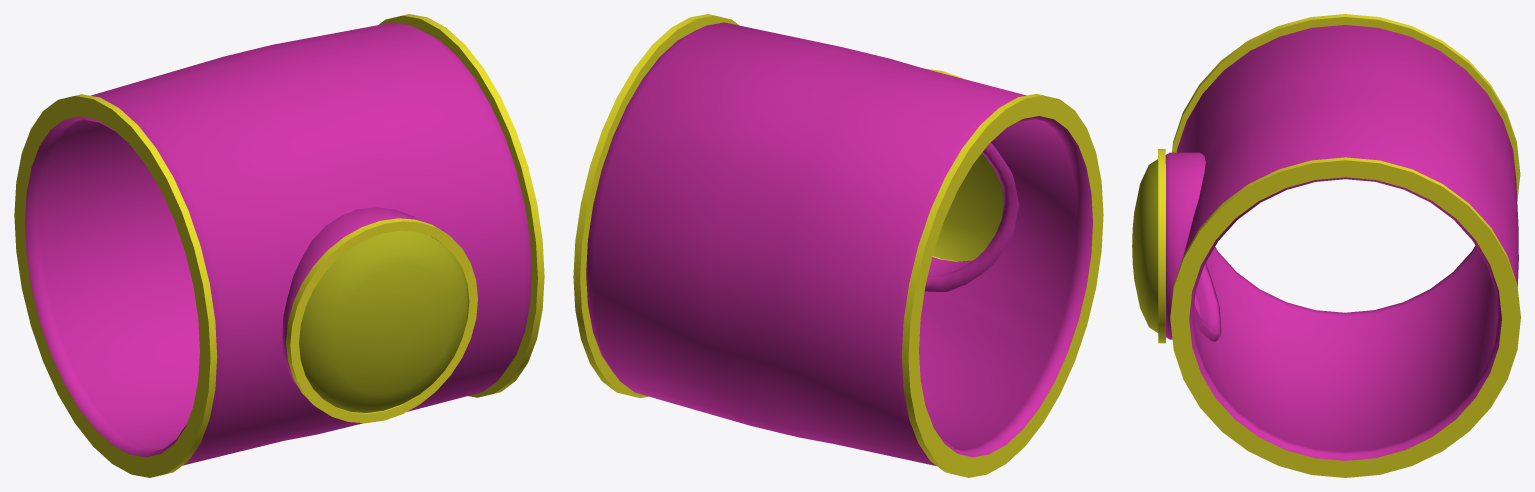
Rendered from tubo_rosa.fbx.
The picture shows the model from 3 angles, left to right: view 1: azimuth 30°, elevation 25°; view 2: azimuth 150°, elevation 25°; view 3: azimuth 270°, elevation 25°; orthographic projection. The views are drawn at different scales.
Visible parts, largest first — view 1: tubo2; view 2: tubo2; view 3: tubo2.
Boxes of the visible parts, <box> form: tubo2: <box>14,14,544,477</box>; tubo2: <box>573,14,1103,477</box>; tubo2: <box>1132,14,1520,477</box>.
Bounding box in the file's own units: 403 × 408 × 451.
